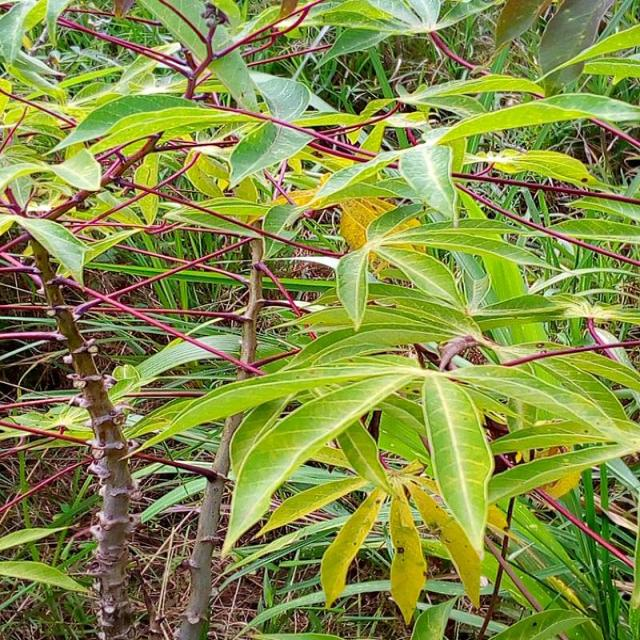cassava leaf: (0, 1, 638, 634), (420, 371, 494, 559)
